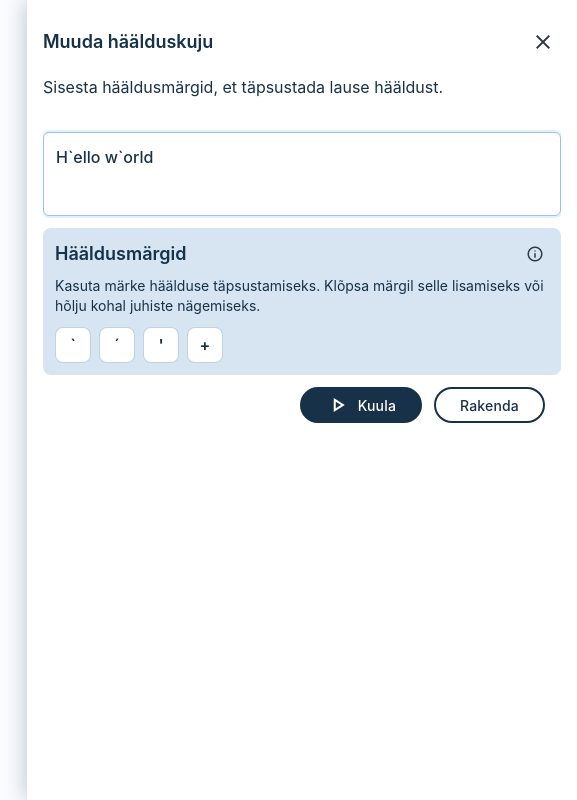
Test case: SentencePhoneticPanel › group 2 › group 2 › group 2 › group 2 › group 2 › markers guide box › shows guide view when info button clicked
The width and height of the screenshot is (577, 800).
Click the button named "Ava hääldusmärkide juhend" at [535, 254], box [521,240,549,268]
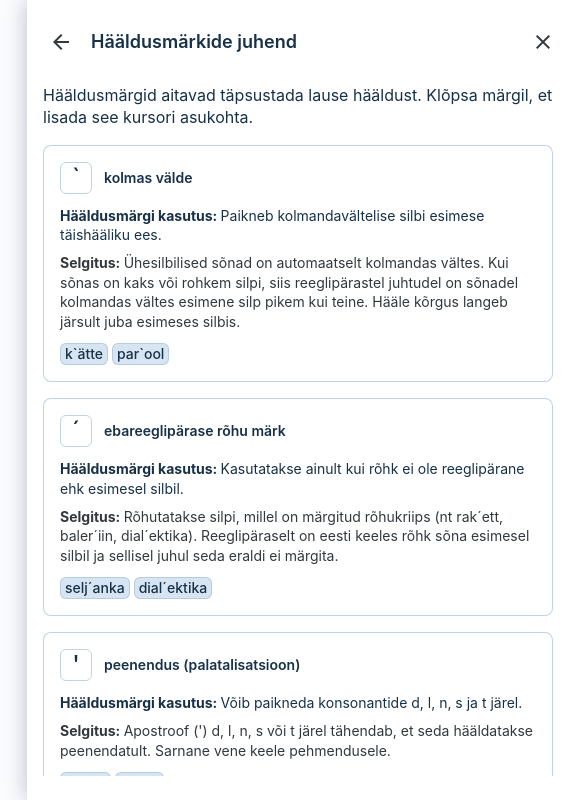
Now the heading "Hääldusmärkide juhend" is shown, box [91,31,297,52]
